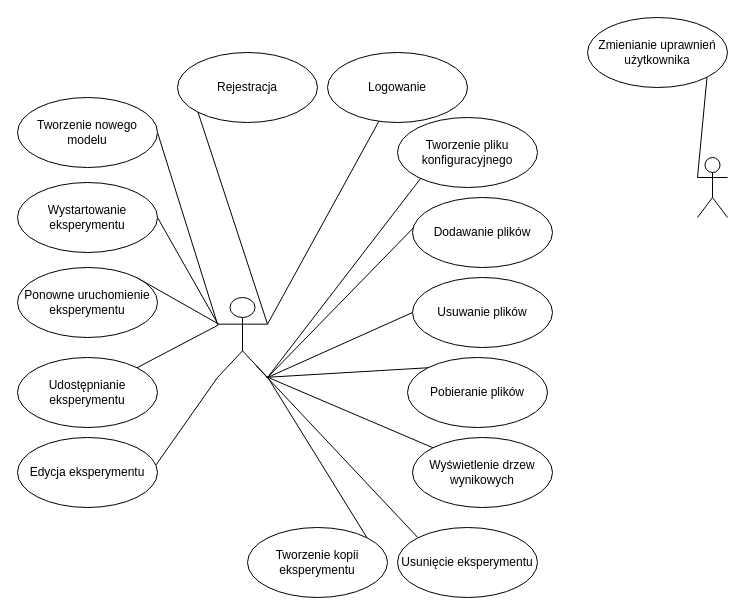
The diagram is 747 pixels wide and 615 high, and some of its shapes have lost their labels. Here are the shapes that lost their labels. From the top down, the centre of each, then its label:
the point at 712,187: Admin
the point at 242,337: Użytkownik
